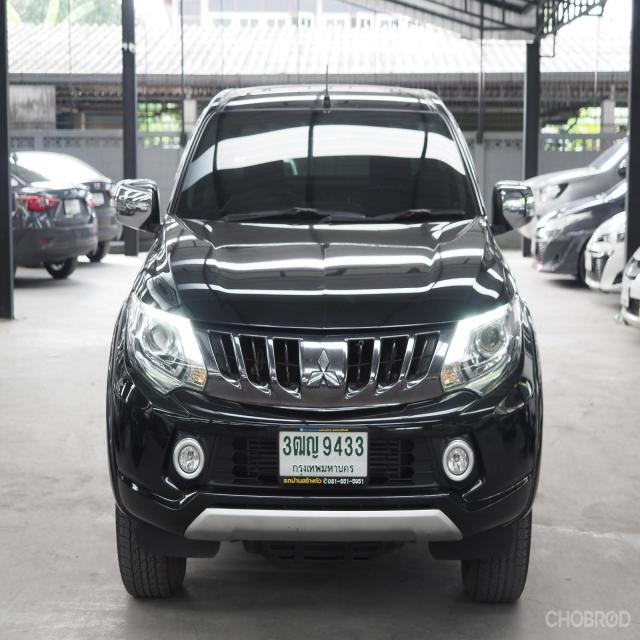license_plate: (277, 422, 369, 488)
